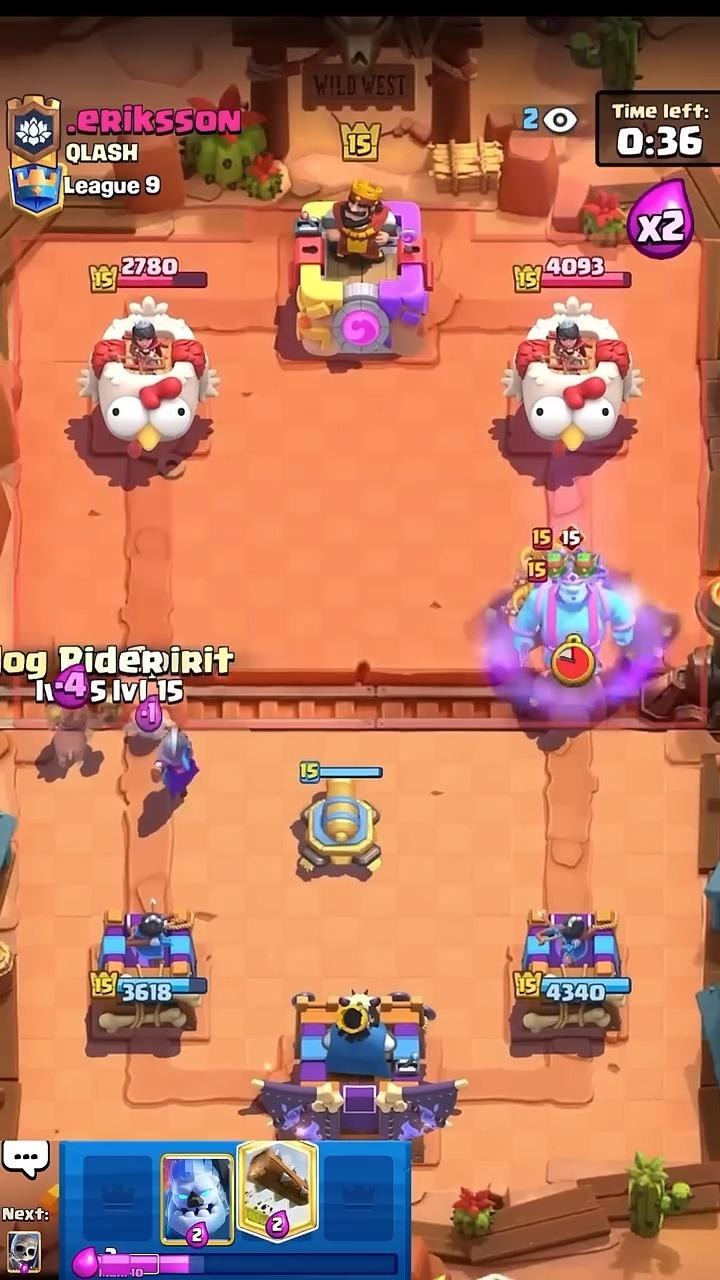cannon: (298, 765, 381, 876)
elite barbarians: (505, 548, 547, 616)
goblin giant: (508, 552, 634, 666)
musketeer: (153, 727, 198, 808)
